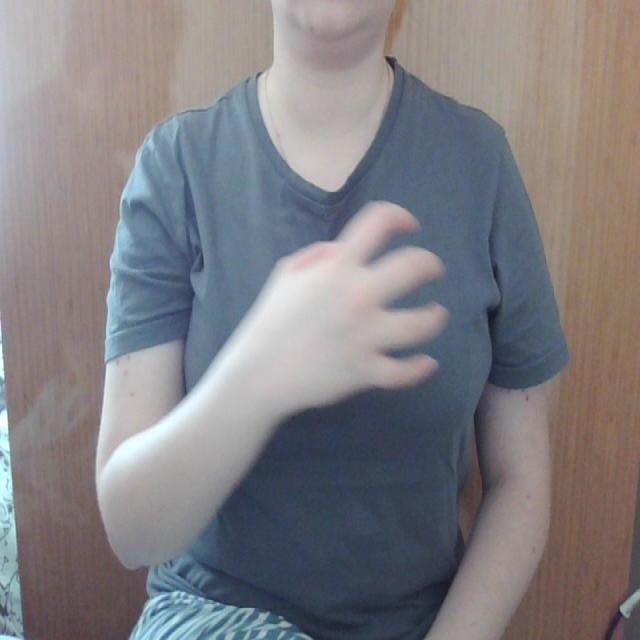Anne: (164, 192, 562, 401)
